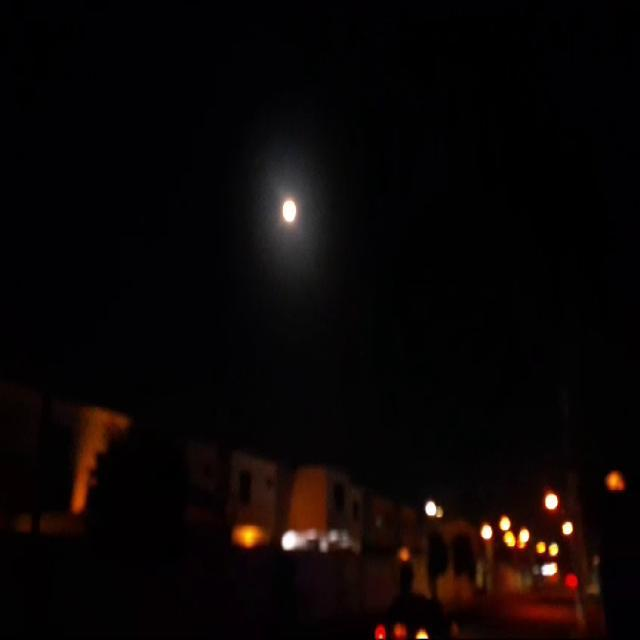moon: (280, 198, 300, 232)
